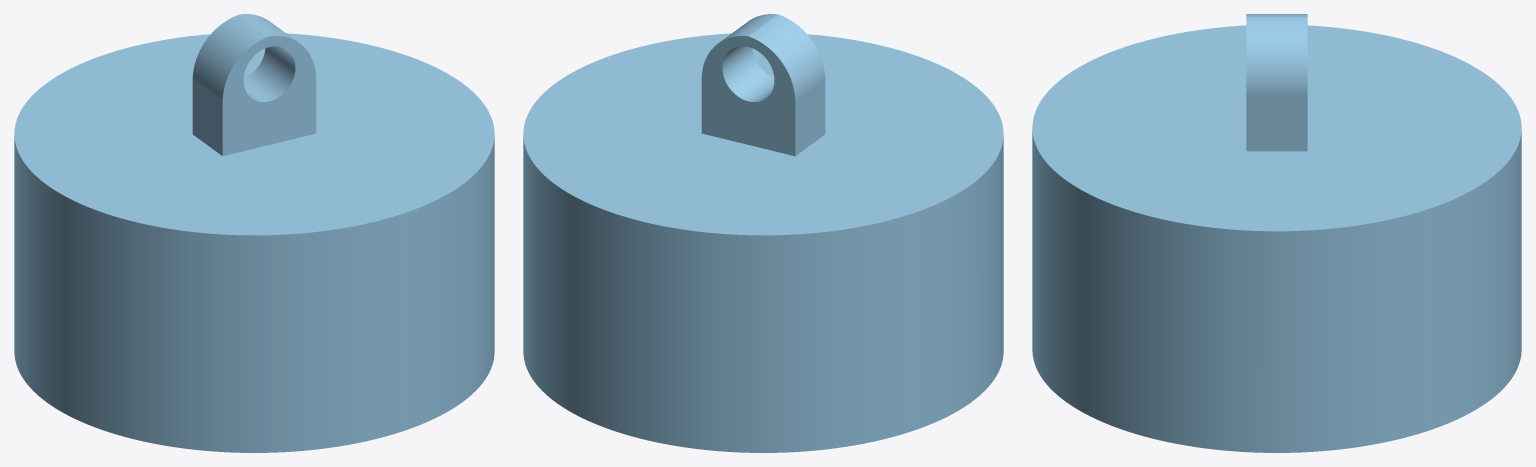
File: base_large_old.dae
3 views of the same model, side by side, from view 1: azimuth 30°, elevation 25°; view 2: azimuth 150°, elevation 25°; view 3: azimuth 270°, elevation 25° (orthographic).
Parts seen in each view (by area): view 1: 5eb21ca45393c815e5ce49bf; view 2: 5eb21ca45393c815e5ce49bf; view 3: 5eb21ca45393c815e5ce49bf.
Part boxes in pixels (bbox=[...]): 5eb21ca45393c815e5ce49bf: bbox=[14, 14, 494, 452]; 5eb21ca45393c815e5ce49bf: bbox=[523, 14, 1003, 452]; 5eb21ca45393c815e5ce49bf: bbox=[1032, 14, 1521, 452].
Bounding box in the file's own units: 0.4 × 0.4 × 0.2997.
